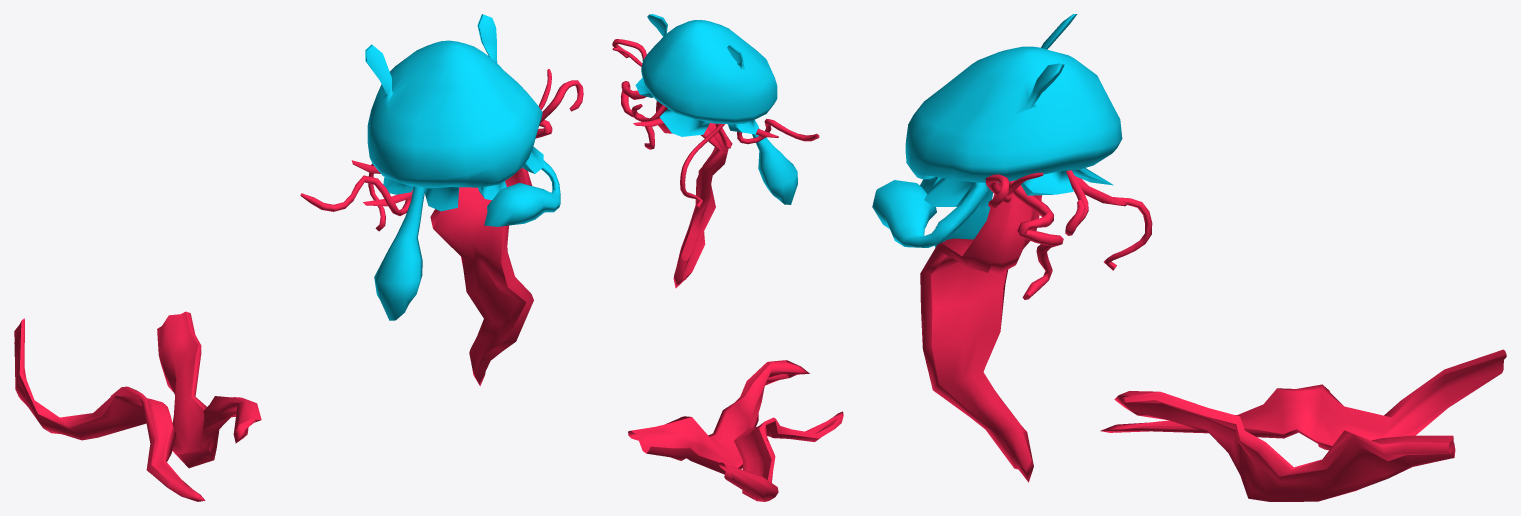
The model's file is JellyFish_State_2.fbx.
3 views of the same model, side by side, from view 1: azimuth 30°, elevation 25°; view 2: azimuth 150°, elevation 25°; view 3: azimuth 270°, elevation 25° (orthographic). The views are drawn at different scales.
Visible parts, largest first — view 1: Jelly_Fish_Body, Main_Tentacle_Geo, Left_Tentacle_geo, Back_Tentacle, Left_Arm1, Left_Arm, extrudedSurface4; view 2: Jelly_Fish_Body, Left_Tentacle_geo, Back_Tentacle, Main_Tentacle_Geo, Left_Arm1, extrudedSurface3, extrudedSurface4, extrudedSurface2, Right_Question_Curve, extrudedSurface7; view 3: Jelly_Fish_Body, Main_Tentacle_Geo, Left_Tentacle_geo, Back_Tentacle, Left_Arm, extrudedSurface3, Left_Arm1, extrudedSurface2, extrudedSurface7.
Part boxes in pixels (box(x1,y1,x2,y2)): Jelly_Fish_Body: box(365, 14, 543, 211); Main_Tentacle_Geo: box(430, 167, 533, 386); Left_Tentacle_geo: box(157, 311, 261, 468); Back_Tentacle: box(14, 318, 205, 501); Left_Arm1: box(374, 186, 424, 320); Left_Arm: box(484, 160, 560, 226); extrudedSurface4: box(300, 175, 411, 215); Jelly_Fish_Body: box(635, 14, 777, 136); Left_Tentacle_geo: box(628, 360, 809, 474); Back_Tentacle: box(719, 411, 843, 501); Main_Tentacle_Geo: box(656, 101, 728, 288); Left_Arm1: box(752, 127, 797, 204); extrudedSurface3: box(621, 81, 654, 149); extrudedSurface4: box(737, 118, 819, 144); extrudedSurface2: box(680, 123, 724, 208); Right_Question_Curve: box(612, 39, 646, 60); extrudedSurface7: box(631, 104, 666, 121); Jelly_Fish_Body: box(905, 14, 1122, 206); Main_Tentacle_Geo: box(920, 183, 1041, 482); Left_Tentacle_geo: box(1114, 391, 1455, 501); Back_Tentacle: box(1100, 349, 1506, 450); Left_Arm: box(872, 180, 988, 247); extrudedSurface3: box(1009, 180, 1063, 299); Left_Arm1: box(935, 188, 993, 247); extrudedSurface2: box(1077, 177, 1152, 270); extrudedSurface7: box(1065, 170, 1088, 235).
Size of the model in its own units: 10.22 by 11.93 by 12.26.
